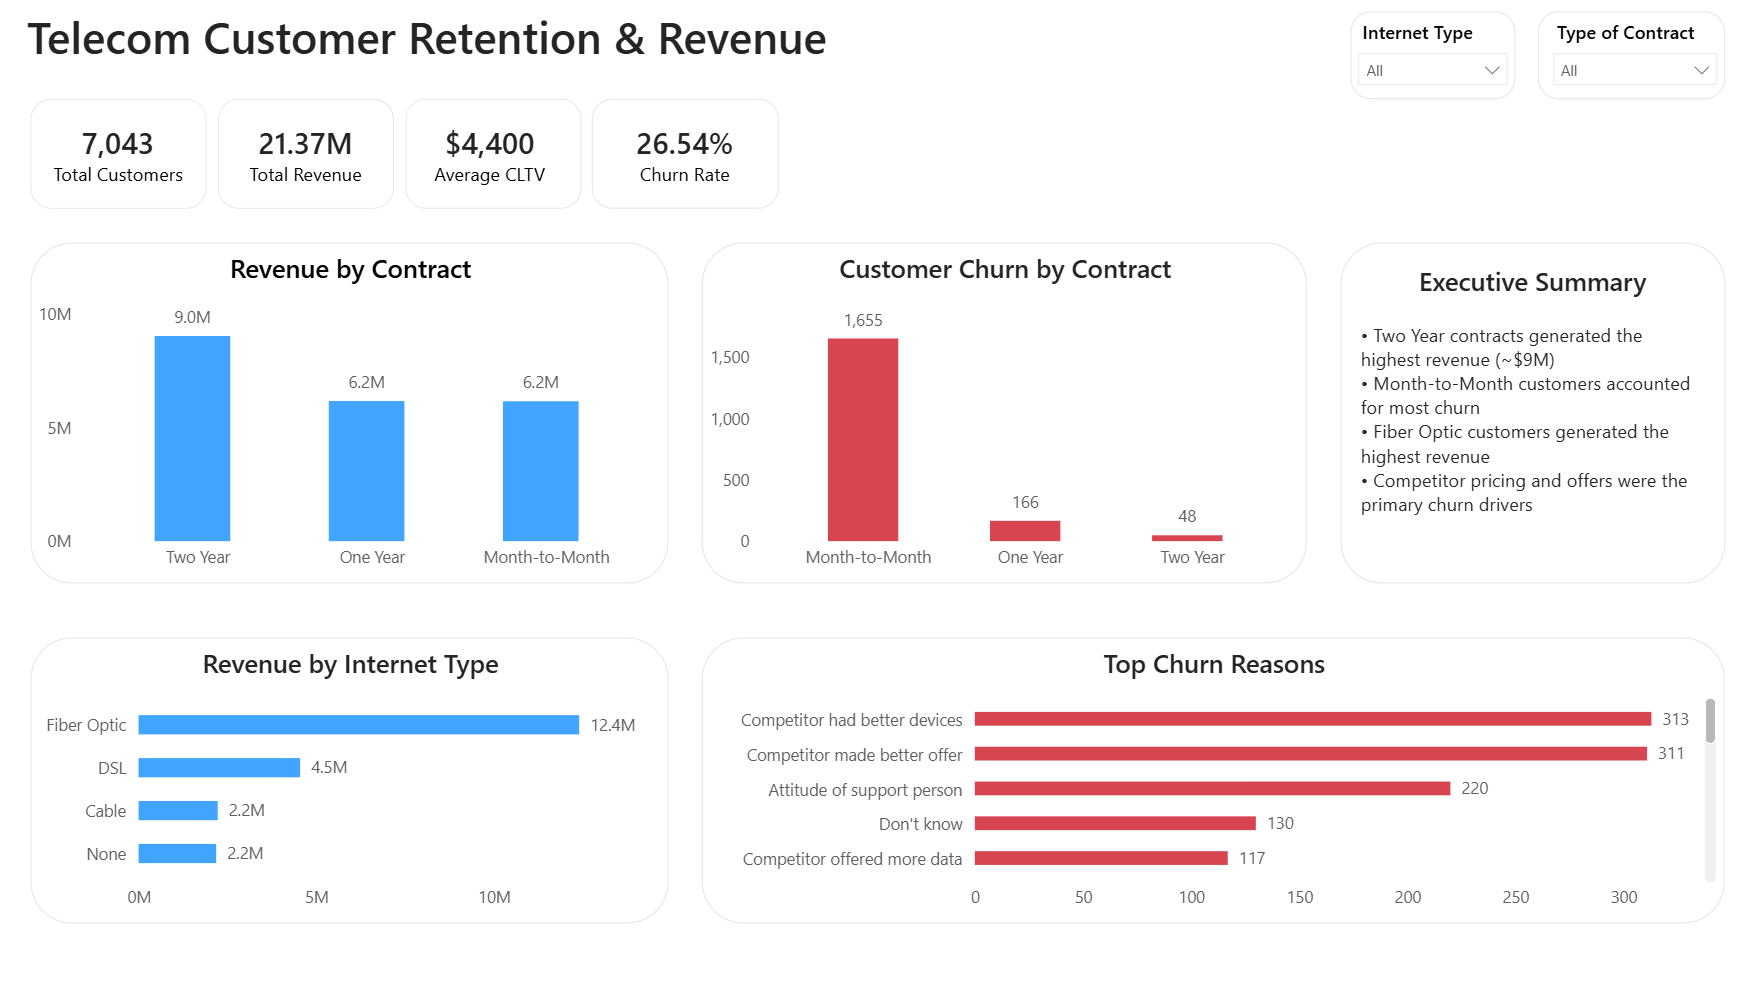

The dashboard page shown, as its layout file describes it:
{"tool":"powerbi","page":{"name":"Customer Retention & Revenue","canvas":[1280,720],"ordinal":0},"visuals":[{"type":"clusteredColumnChart","title":"Revenue by Contract","fields":{"Category":["telco.Contract"],"Y":["Sum(telco.Total Revenue)"]},"box":[24,176,464,248],"z":0},{"type":"barChart","title":"Top Churn Reasons","fields":{"Category":["telco.Churn Reason"],"Y":["CountNonNull(telco.Customer ID)"]},"box":[512,464,744,208],"z":1000},{"type":"clusteredColumnChart","title":"Customer Churn by Contract","fields":{"Category":["telco.Contract"],"Y":["CountNonNull(telco.Customer ID)"]},"box":[512,176,440,248],"z":2000},{"type":"cardVisual","title":"Total Customers","fields":{"Data":["telco.Total Customers"]},"box":[24,72,128,80],"z":3000},{"type":"cardVisual","title":"Total Revenue","fields":{"Data":["telco.Total Revenue KPI"]},"box":[160,72,128,80],"z":4000},{"type":"cardVisual","title":"Average CLTV","fields":{"Data":["telco.Average CLTV"]},"box":[296,72,128,80],"z":5000},{"type":"cardVisual","title":"Churn Rate","fields":{"Data":["telco.Churn Rate"]},"box":[432,72,136,80],"z":6000},{"type":"textbox","title":"Telecom Customer Analytics","box":[0,0,624,72],"z":7000},{"type":"barChart","title":"Revenue by Internet Type","fields":{"Y":["Sum(telco.Total Revenue)"],"Category":["telco.Internet Type"]},"box":[24,464,464,208],"z":8000},{"type":"textbox","title":"Executive Summary","box":[976,176,280,248],"z":9000},{"type":"slicer","fields":{"Values":["telco.Contract"]},"box":[1120,8,136,64],"z":10000},{"type":"slicer","fields":{"Values":["telco.Internet Type"]},"box":[984,8,120,64],"z":11000}]}

Visuals, with their boxes in screenshot pixels (x1, y1, x2, y2), scaled from the page's 1280x720 canvas onto the 1752x987 screenshot:
"Revenue by Contract" clusteredColumnChart: 33:241:668:581
"Top Churn Reasons" barChart: 701:636:1719:921
"Customer Churn by Contract" clusteredColumnChart: 701:241:1303:581
"Total Customers" cardVisual: 33:99:208:208
"Total Revenue" cardVisual: 219:99:394:208
"Average CLTV" cardVisual: 405:99:580:208
"Churn Rate" cardVisual: 591:99:777:208
"Telecom Customer Analytics" textbox: 0:0:854:99
"Revenue by Internet Type" barChart: 33:636:668:921
"Executive Summary" textbox: 1336:241:1719:581
slicer - telco.Contract: 1533:11:1719:99
slicer - telco.Internet Type: 1347:11:1511:99
